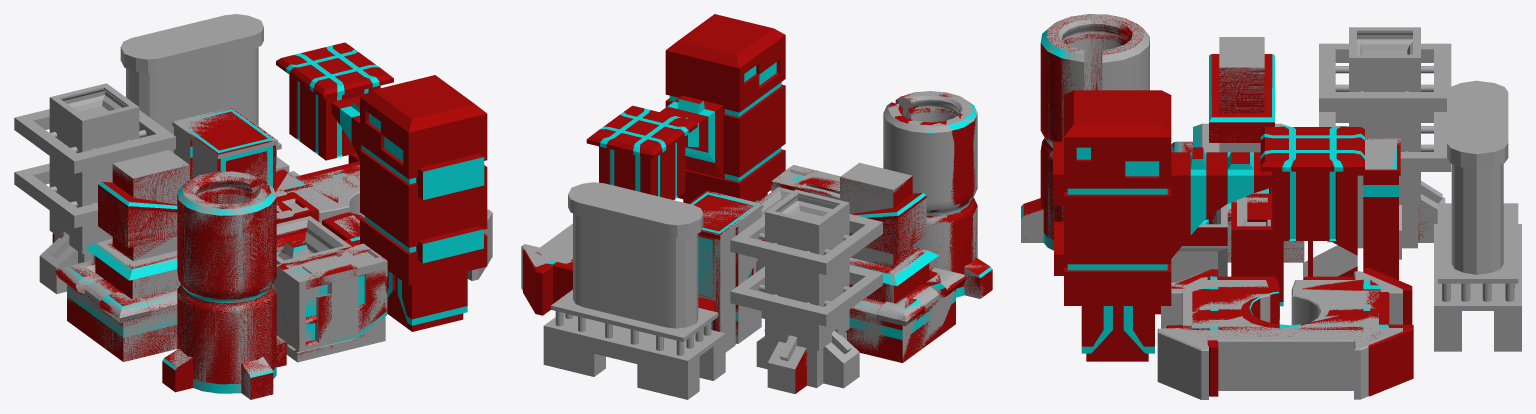
File: Buildings3.fbx
3 renders of one model, left to right at view 1: azimuth 30°, elevation 25°; view 2: azimuth 150°, elevation 25°; view 3: azimuth 270°, elevation 25°, orthographic. The views are drawn at different scales.
Visible parts, largest first — view 1: Building_8_Tower_Bridge, Building_2_Cylinder_Tower1, Building_3_Cube_Tower, Cylinder_Cube_Buildin, Building_2_Cylinder_Tower, Building_1_Market_Flat, Building_1_Market_Flat1, polySurface5, Building_7_DJ_Box_Building, Building_6_Floating_middle_Building, Building_4_Flats1, Floating_Middle_Building_Low (+1 smaller); view 2: Cylinder_Cube_Buildin, Building_8_Tower_Bridge, Building_3_Cube_Tower, Building_1_Market_Flat, Building_2_Cylinder_Tower, Building_1_Market_Flat1, Floating_Middle_Building_Low, Building_2_Cylinder_Tower1, Building_6_Floating_middle_Building, Building_3_Flats, polySurface5, Building_4_Flats1 (+1 smaller); view 3: Building_8_Tower_Bridge, Building_4_Flats1, Cylinder_Cube_Buildin, Building_3_Cube_Tower, Building_3_Flats, Building_2_Cylinder_Tower, Building_2_Cylinder_Tower1, Building_1_Market_Flat1, Building_6_Floating_middle_Building, Building_1_Market_Flat, Building_7_DJ_Box_Building, polySurface5 (+1 smaller).
Part boxes in pixels (left/top/right/bottom): Building_8_Tower_Bridge: left=276, top=42, right=487, bottom=331; Building_2_Cylinder_Tower1: left=162, top=171, right=286, bottom=399; Building_3_Cube_Tower: left=14, top=83, right=175, bottom=294; Cylinder_Cube_Buildin: left=120, top=14, right=289, bottom=172; Building_2_Cylinder_Tower: left=163, top=171, right=285, bottom=399; Building_1_Market_Flat: left=57, top=150, right=189, bottom=361; Building_1_Market_Flat1: left=55, top=164, right=189, bottom=361; polySurface5: left=272, top=198, right=387, bottom=362; Building_7_DJ_Box_Building: left=276, top=192, right=387, bottom=357; Building_6_Floating_middle_Building: left=183, top=107, right=275, bottom=190; Building_4_Flats1: left=275, top=165, right=492, bottom=280; Floating_Middle_Building_Low: left=172, top=107, right=277, bottom=187; Cylinder_Cube_Buildin: left=543, top=182, right=725, bottom=399; Building_8_Tower_Bridge: left=586, top=14, right=785, bottom=203; Building_3_Cube_Tower: left=730, top=189, right=882, bottom=393; Building_1_Market_Flat: left=840, top=162, right=964, bottom=362; Building_2_Cylinder_Tower: left=883, top=91, right=987, bottom=298; Building_1_Market_Flat1: left=840, top=176, right=966, bottom=362; Floating_Middle_Building_Low: left=692, top=191, right=763, bottom=352; Building_2_Cylinder_Tower1: left=884, top=92, right=992, bottom=298; Building_6_Floating_middle_Building: left=688, top=190, right=756, bottom=340; Building_3_Flats: left=523, top=249, right=572, bottom=315; polySurface5: left=756, top=165, right=840, bottom=318; Building_4_Flats1: left=521, top=223, right=572, bottom=290; Building_8_Tower_Bridge: left=1053, top=90, right=1364, bottom=361; Building_4_Flats1: left=1157, top=271, right=1402, bottom=399; Cylinder_Cube_Buildin: left=1434, top=80, right=1521, bottom=351; Building_3_Cube_Tower: left=1319, top=27, right=1451, bottom=259; Building_3_Flats: left=1166, top=268, right=1413, bottom=396; Building_2_Cylinder_Tower: left=1021, top=14, right=1149, bottom=249; Building_2_Cylinder_Tower1: left=1021, top=14, right=1149, bottom=250; Building_1_Market_Flat1: left=1171, top=54, right=1303, bottom=262; Building_6_Floating_middle_Building: left=1308, top=139, right=1400, bottom=280; Building_1_Market_Flat: left=1171, top=37, right=1304, bottom=262; Building_7_DJ_Box_Building: left=1155, top=187, right=1283, bottom=314; polySurface5: left=1171, top=188, right=1279, bottom=318.
Bounding box in the file's own units: 3285 × 1780 × 3343.
